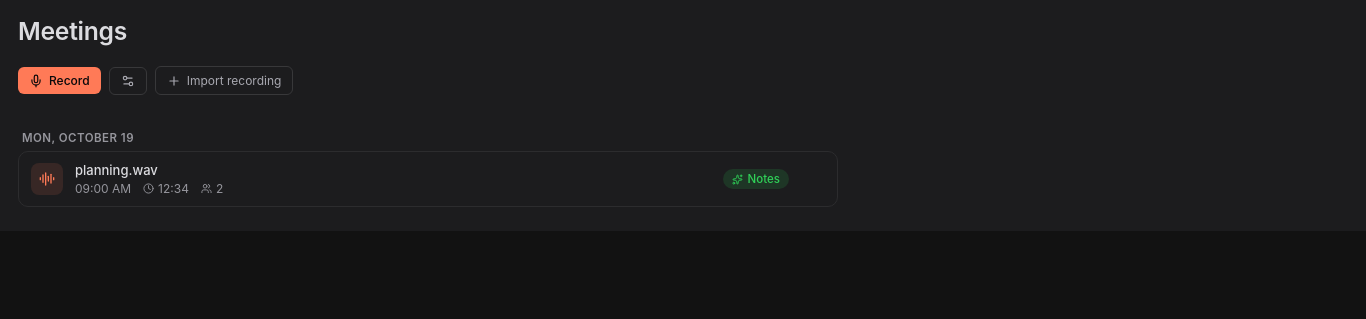
it: the meetings page › a stop is not reported as a failure, a real failure is
Click the button "Import recording": point(224, 80) [155, 66, 293, 95]
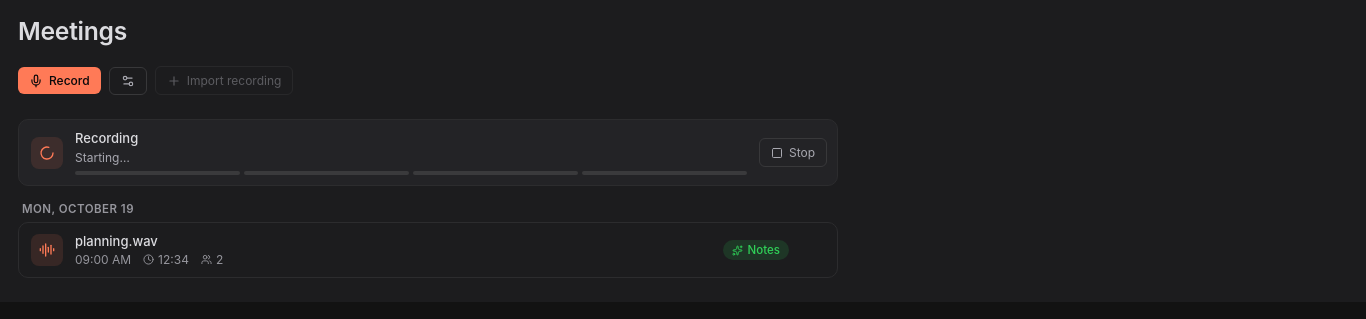
Click the button "Stop": point(793, 152) [759, 138, 827, 167]
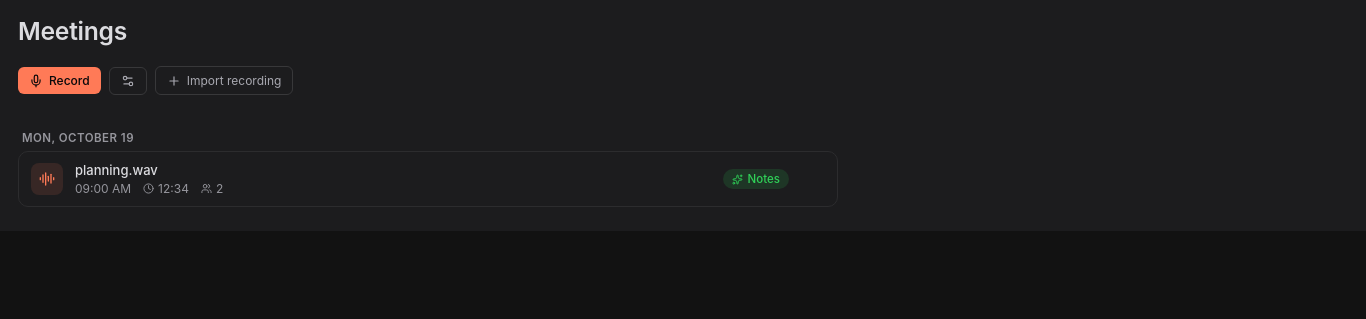
Click the button "Import recording": point(224, 80) [155, 66, 293, 95]
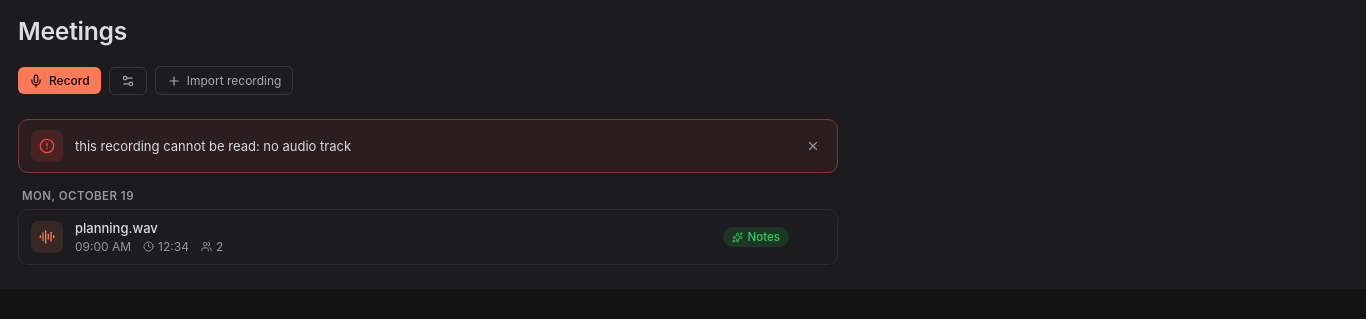
expect the message reads "this recording cannot be read: no audio track": met, box [75, 138, 351, 154]
Click the button named "Close": point(813, 146) [799, 132, 827, 160]
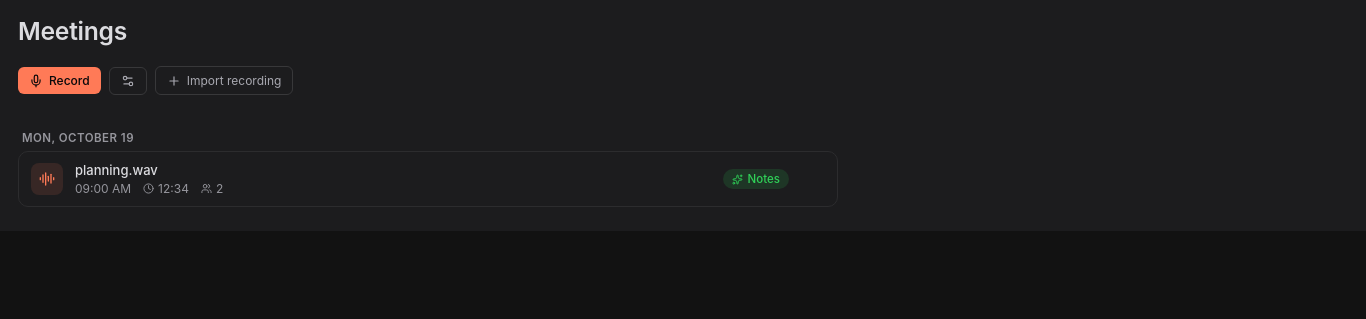
expect the message "this recording cannot be read: no audio track" is gone: met
